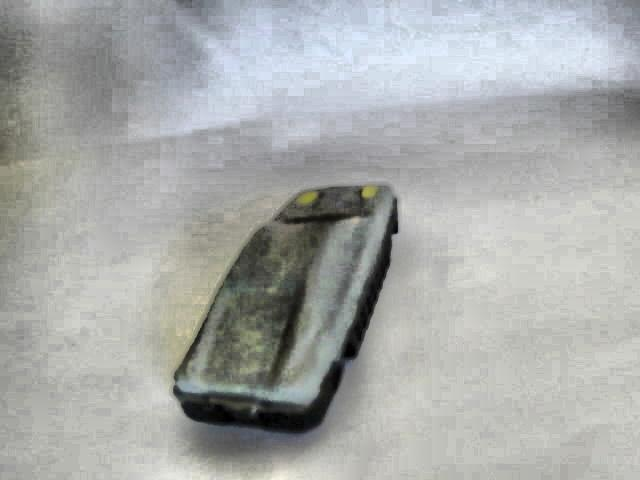normal_car: (167, 179, 404, 435)
